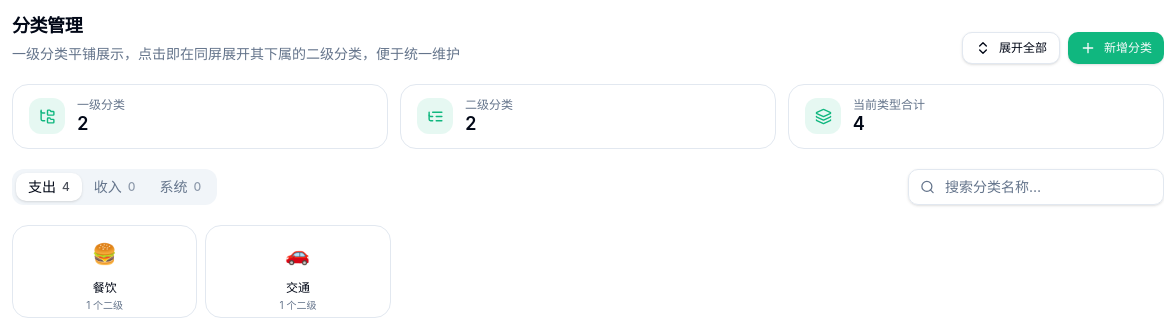
Test: 分类管理页 - 搜索结果 › 搜索框可清空
Expected: the text "餐饮" is shown, [93, 280, 117, 294]
In the field with placeholder "搜索分类名称…": (1036, 186) [908, 168, 1164, 204], type "早餐"
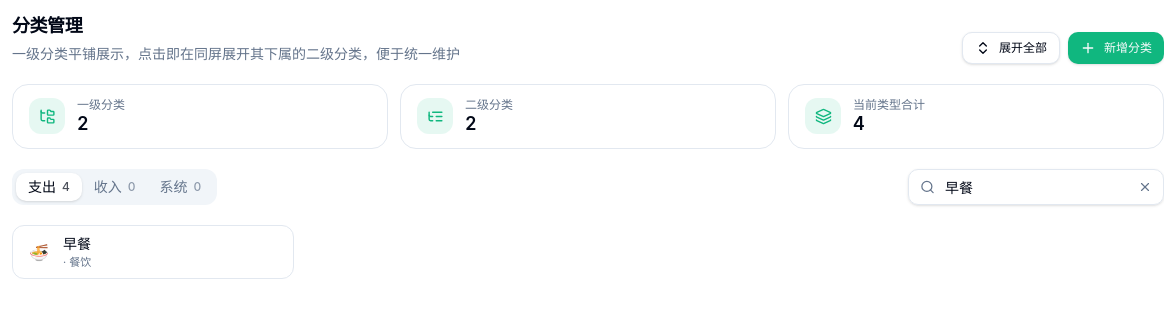
Result: the element with test id "category-search-results" is shown at [12, 224, 294, 279]
Click the button named "清空搜索": (1145, 186) [1134, 176, 1156, 198]
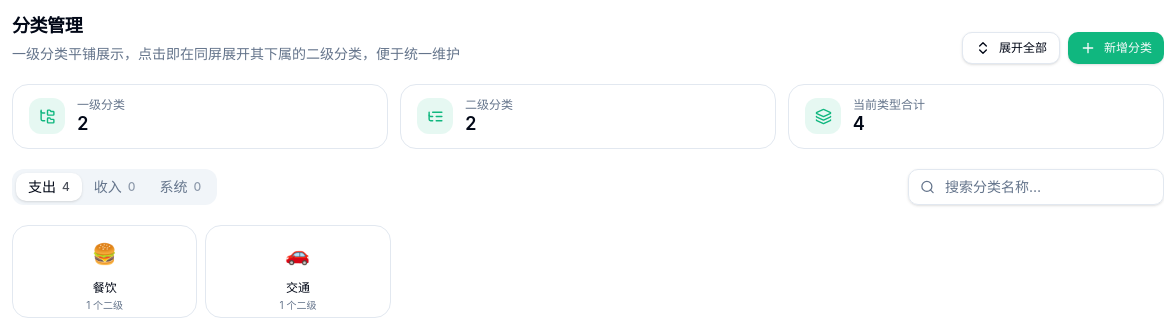
Result: the element with test id "category-search-results" is gone
